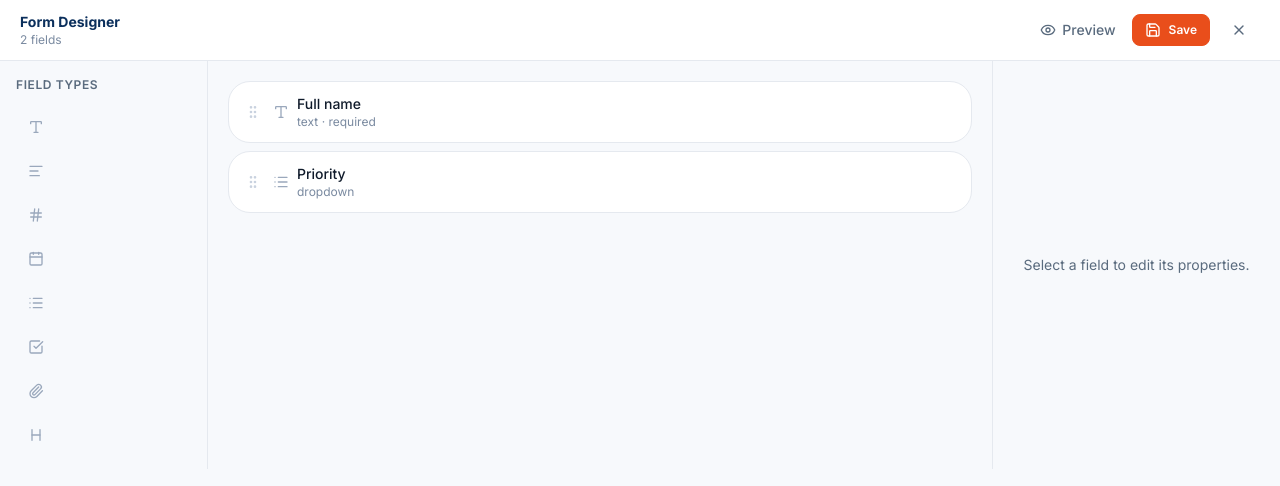
Test: PortalFormDesigner › Preview mode renders the form fields in read-only state
# Switch to Preview
Click the button "Preview": (1078, 30) [1032, 14, 1124, 46]
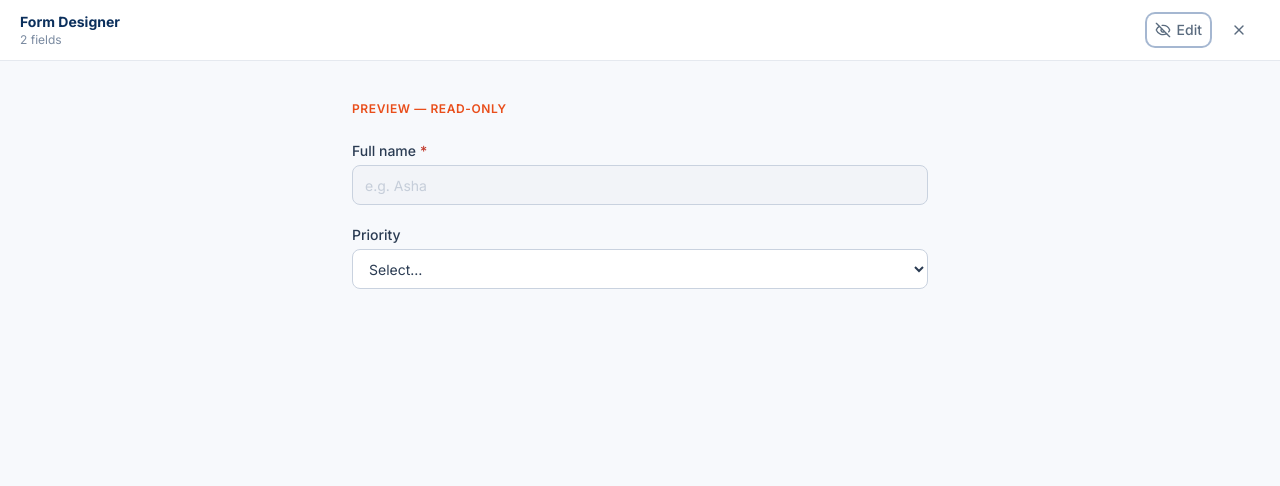
Now the element named "form preview" is shown, box [352, 85, 928, 305]
Now the text "Full name" is shown, box [352, 142, 416, 159]
Now the field is disabled, box [352, 165, 928, 205]
